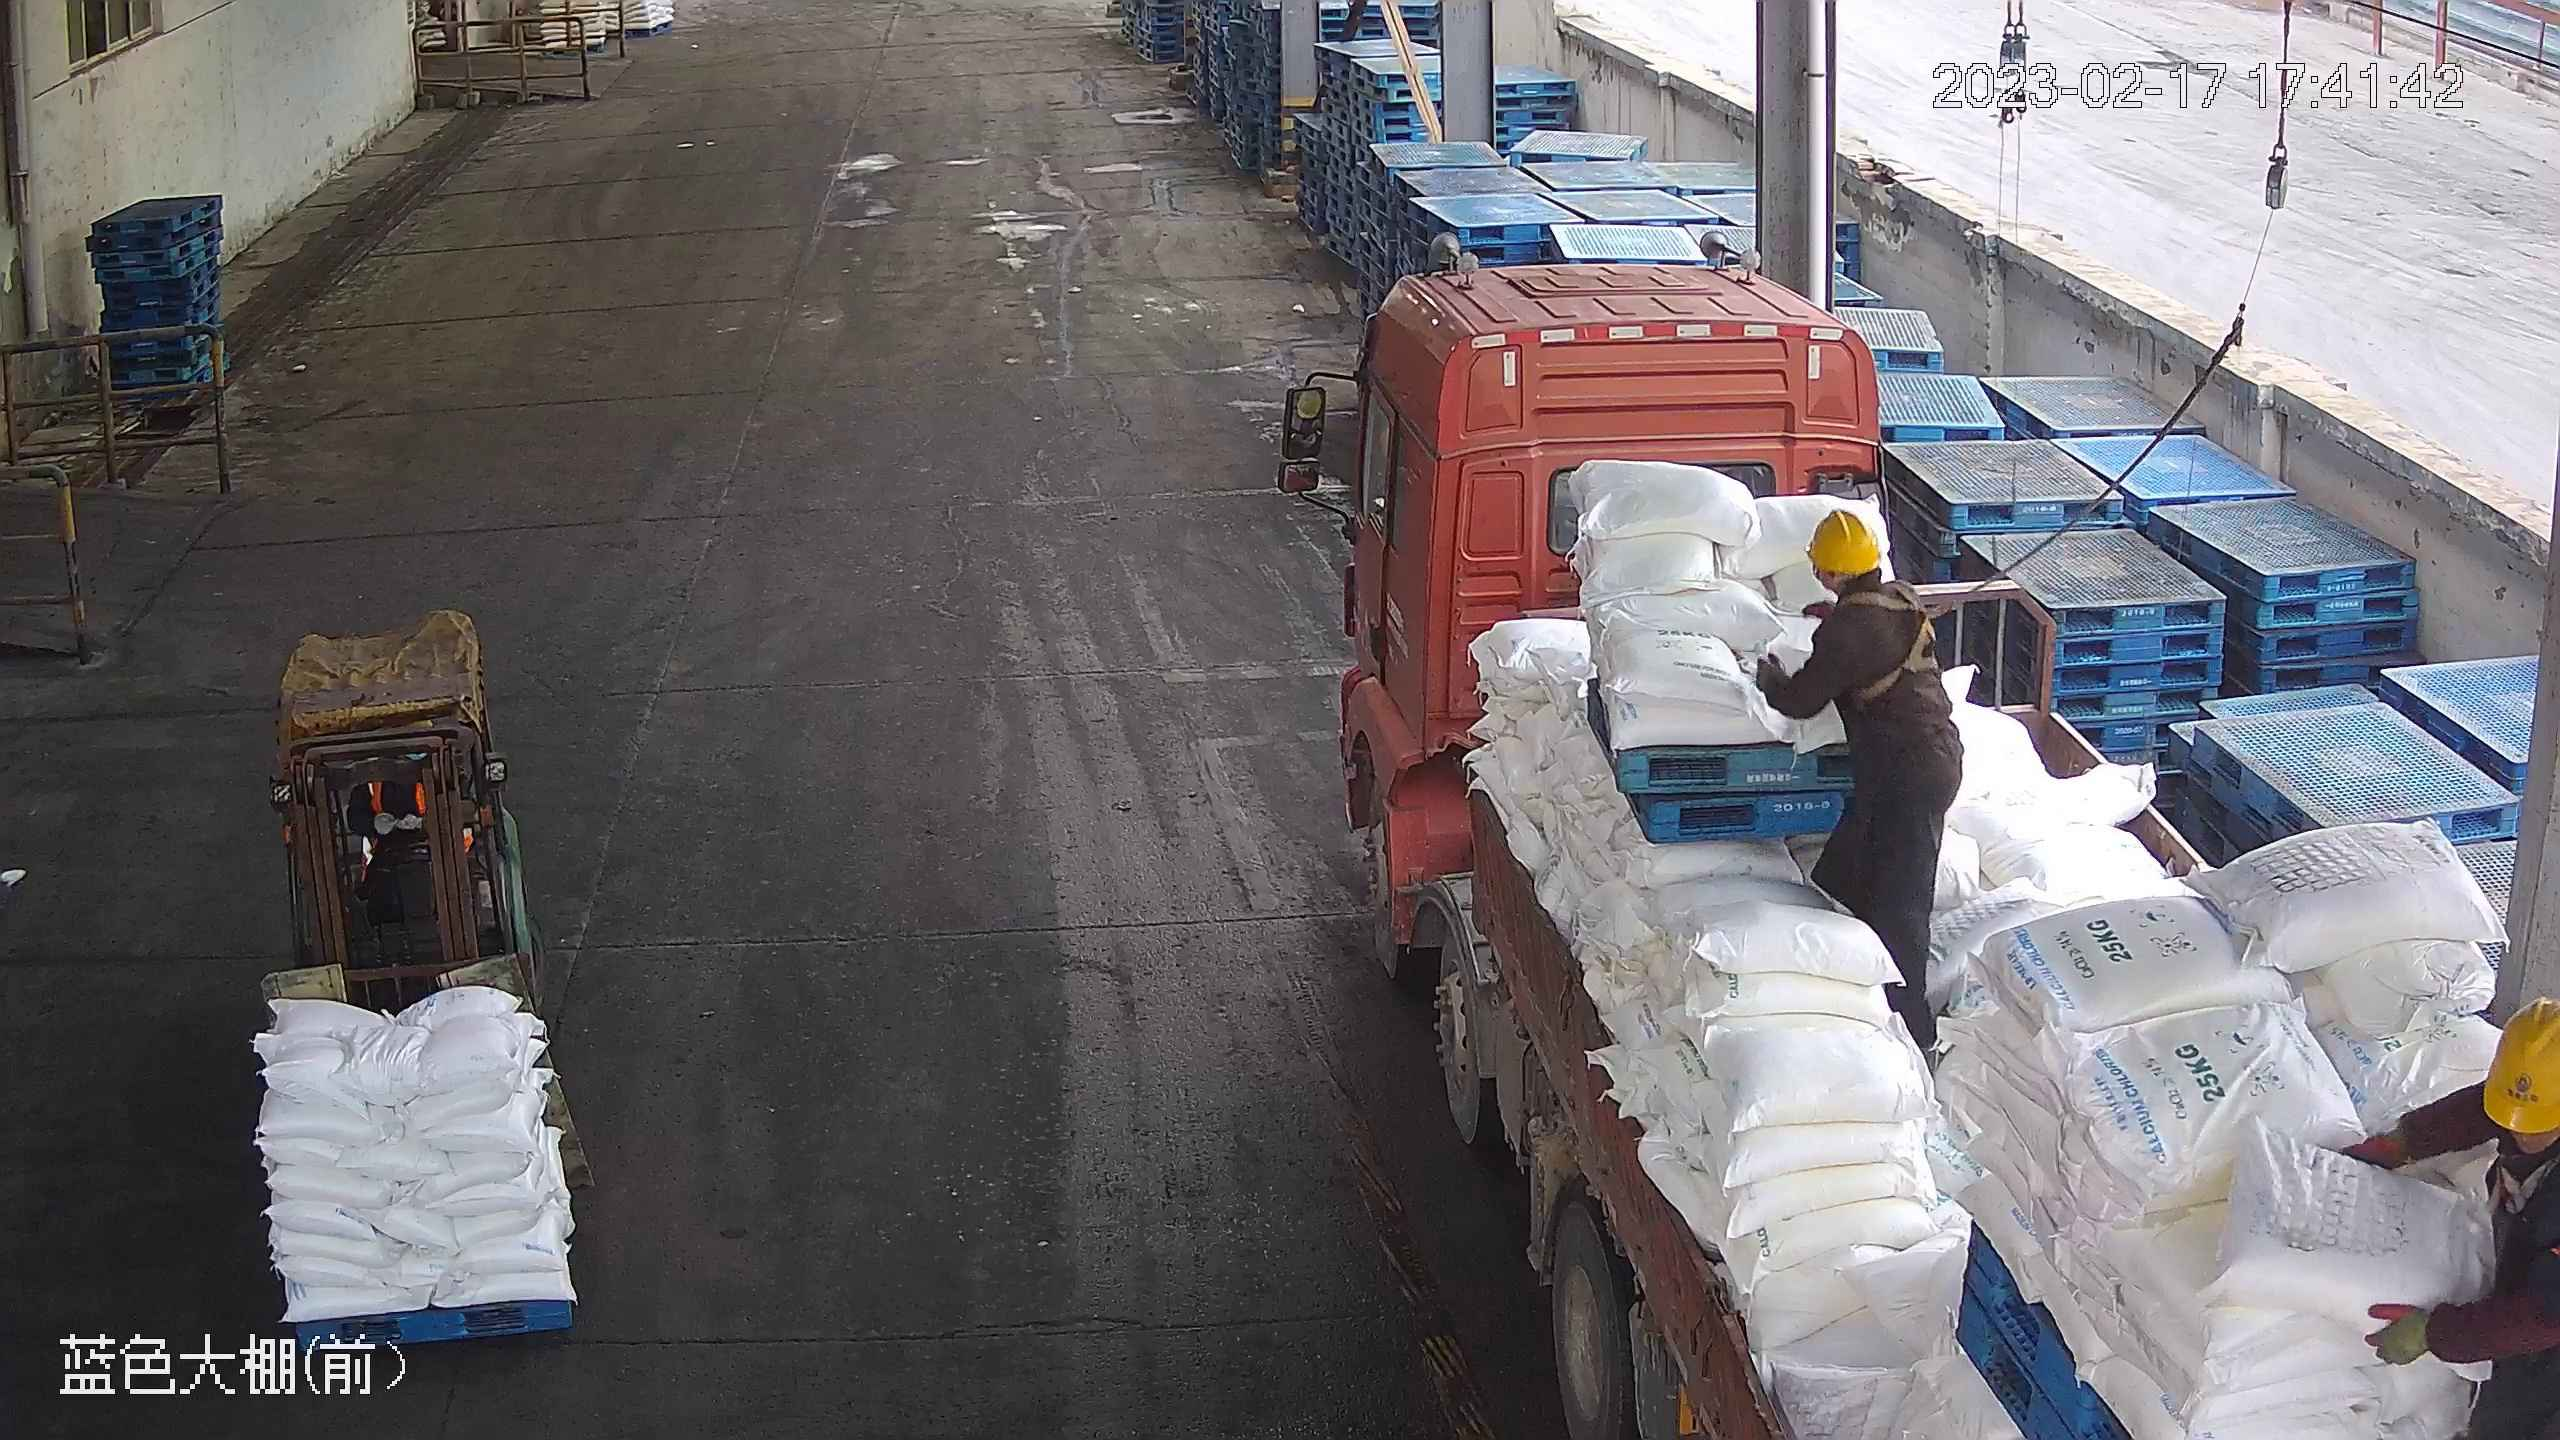belt: (1840, 578, 1959, 701), (2486, 1127, 2560, 1295)
head: (2419, 1002, 2560, 1258), (1781, 506, 1940, 679)
helmet: (2478, 994, 2559, 1133), (1804, 507, 1885, 574)
people: (1753, 509, 1967, 1051), (2336, 997, 2560, 1432)
truck: (1261, 264, 2560, 1427)
